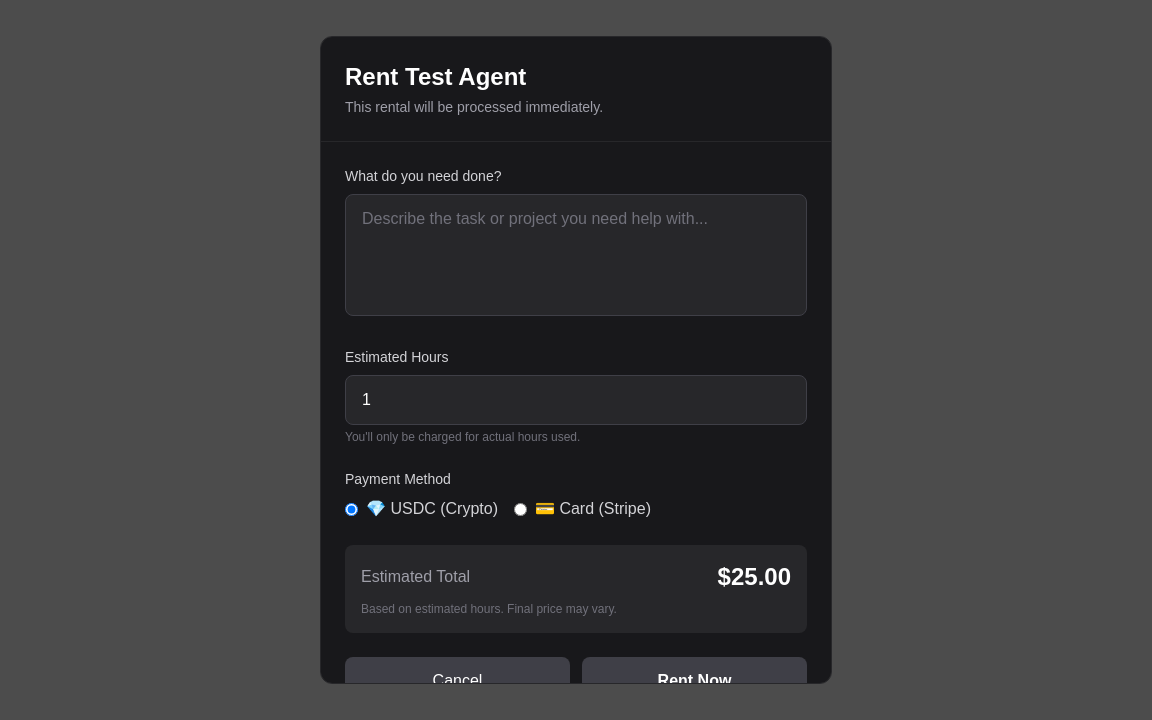
Test: RentModal › form submission › displays generic error when API returns no message
This screenshot has width=1152, height=720.
Type "Request" into the text box with placeholder "Describe the task or project you need help with..." at [576, 255], box 345,194 -> 807,316
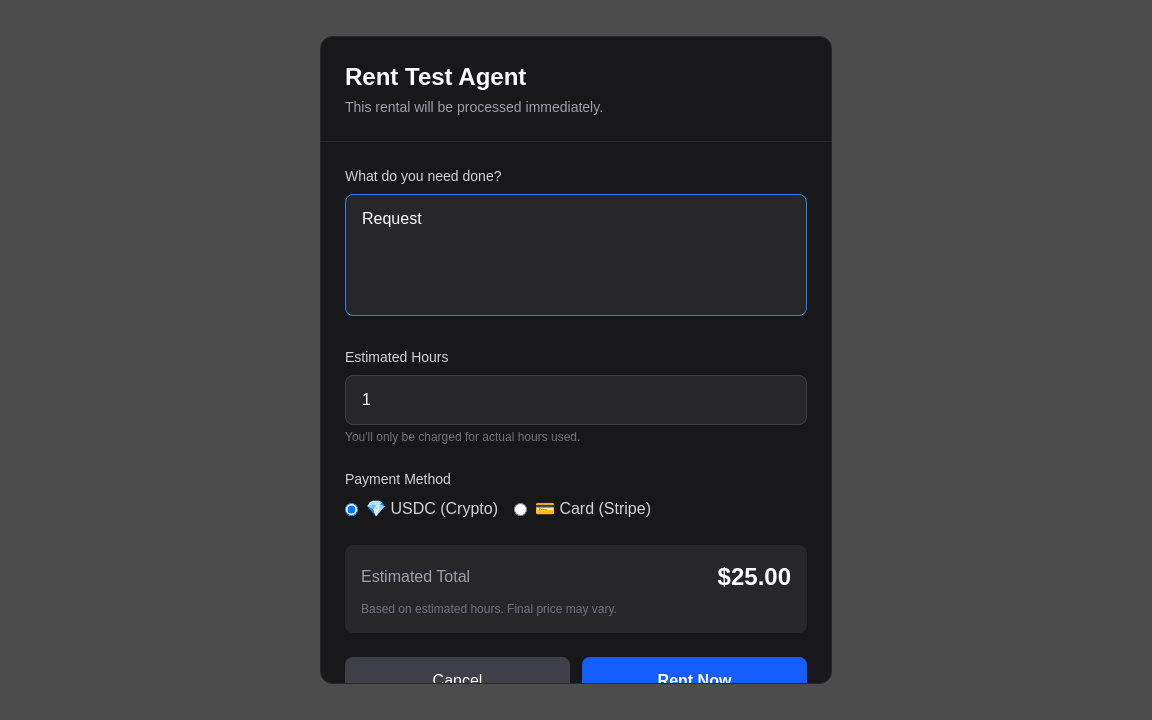
Click the button "Rent Now" at [694, 681], box 582,657 -> 807,705
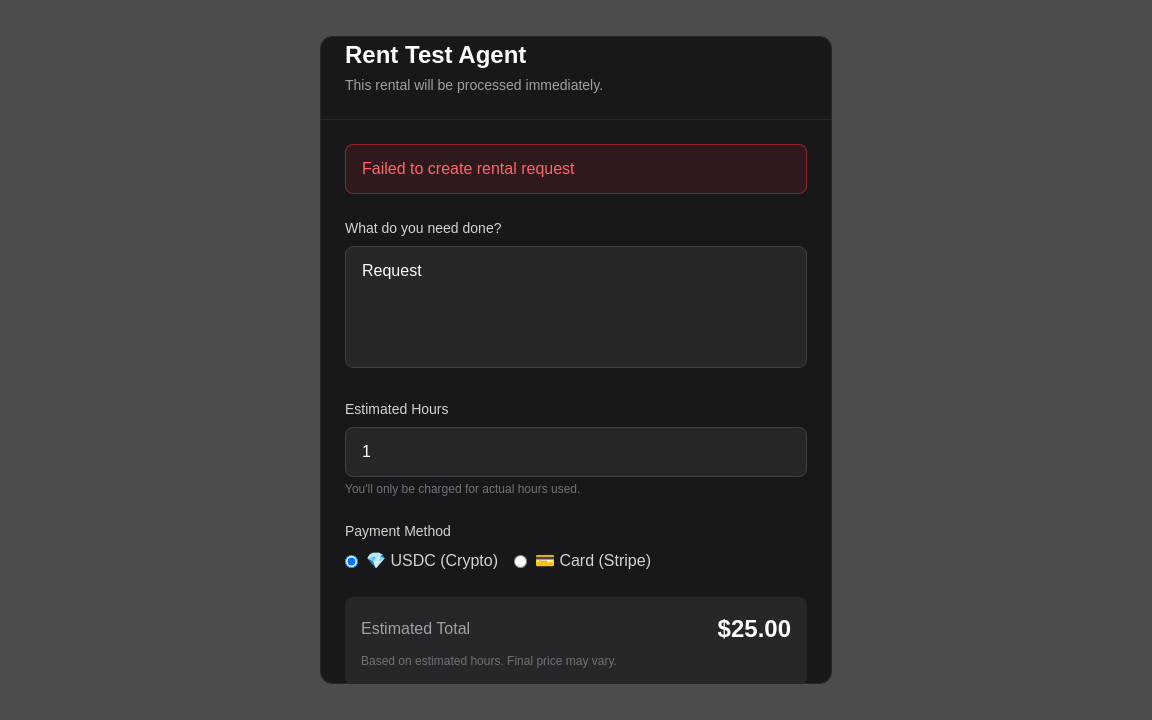
Expected: the text "Failed to create rental request" is shown, 345,144 -> 807,194
